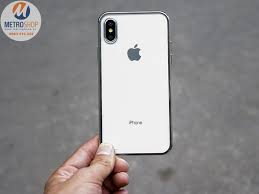iphone: (97, 9, 175, 158)
